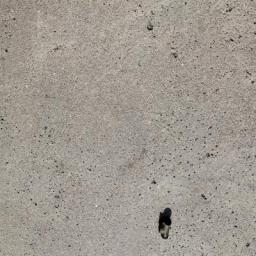FOD: (153, 206, 177, 241)
